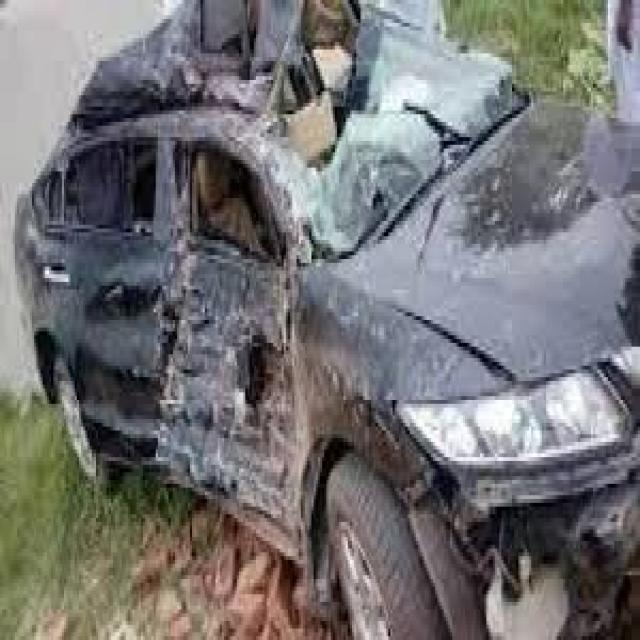accident: (10, 61, 592, 619)
